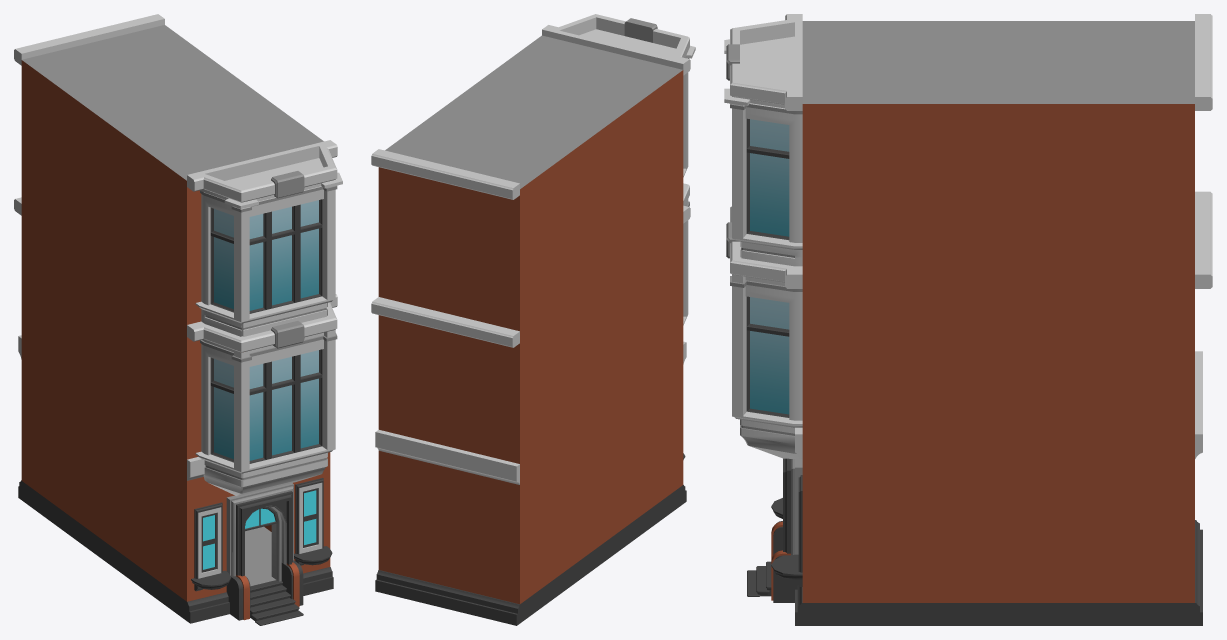
File: SM_Buildings_House_03_V2.fbx
3 renders of one model, left to right at view 1: azimuth 30°, elevation 25°; view 2: azimuth 150°, elevation 25°; view 3: azimuth 270°, elevation 25°, orthographic. The views are drawn at different scales.
Visible parts, largest first — view 1: SM_Buildings_House_03_V2; view 2: SM_Buildings_House_03_V2; view 3: SM_Buildings_House_03_V2.
Boxes of the visible parts, <box> form: SM_Buildings_House_03_V2: <box>14,14,342,625</box>; SM_Buildings_House_03_V2: <box>371,14,695,625</box>; SM_Buildings_House_03_V2: <box>724,14,1212,625</box>.
Size of the model in its own units: 5 by 14.98 by 12.45.
